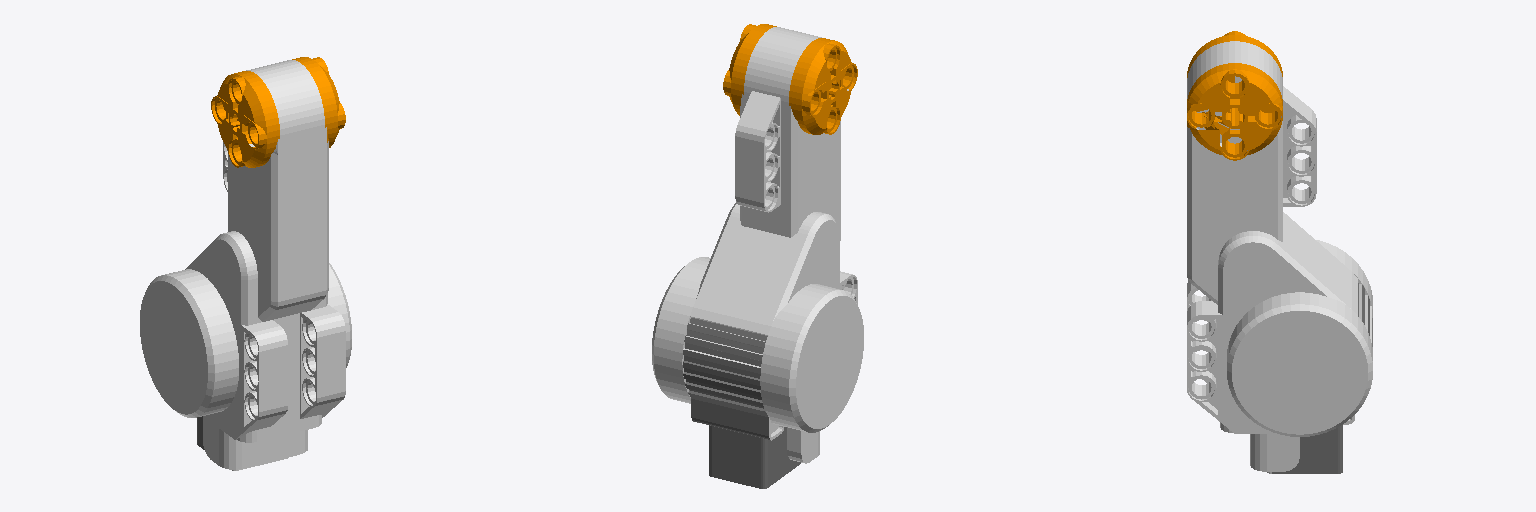
File: Piece000.obj
The picture shows the model from 3 angles: view 1: azimuth 30°, elevation 25°; view 2: azimuth 150°, elevation 25°; view 3: azimuth 270°, elevation 25°; orthographic projection.
Visible parts, largest first — view 1: Piece000; view 2: Piece000; view 3: Piece000.
Part boxes in pixels (bbox=[...]): Piece000: bbox=[140, 57, 351, 470]; Piece000: bbox=[652, 24, 863, 488]; Piece000: bbox=[1187, 31, 1372, 473].
Size of the model in its own units: 100 by 270 by 112.